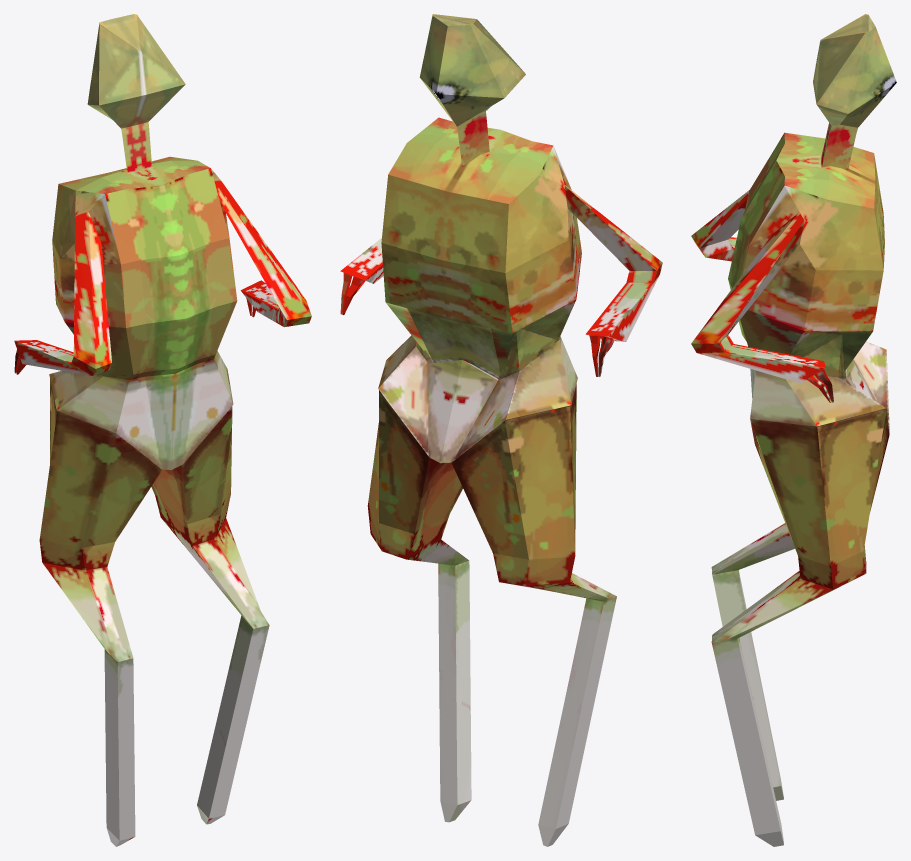
File: Monster.fbx
3 renders of one model, left to right at view 1: azimuth 30°, elevation 25°; view 2: azimuth 150°, elevation 25°; view 3: azimuth 270°, elevation 25°, orthographic. The views are drawn at different scales.
Visible parts, largest first — view 1: Cube; view 2: Cube; view 3: Cube.
Part boxes in pixels (bbox=[...]): Cube: bbox=[14, 14, 311, 846]; Cube: bbox=[340, 14, 662, 846]; Cube: bbox=[691, 14, 896, 846].
Size of the model in its own units: 75.2 by 220 by 51.28.
Materials: 1 (1 with a texture image).
